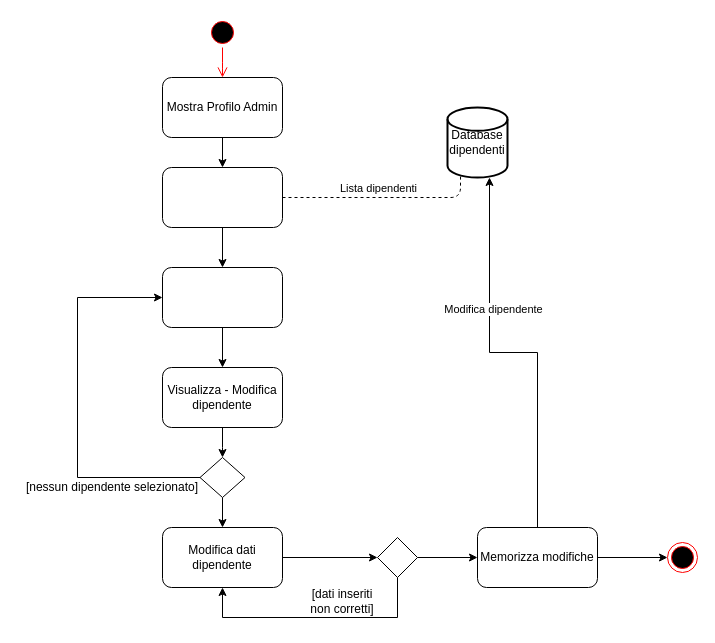
This 715x643 diagram has some shape labels left out. The centre of each missing label's shape, as x and y in pixels:
"Mostra Lista Dipendenti" goes at [222,197].
"Seleziona dipendente" goes at [222,297].
